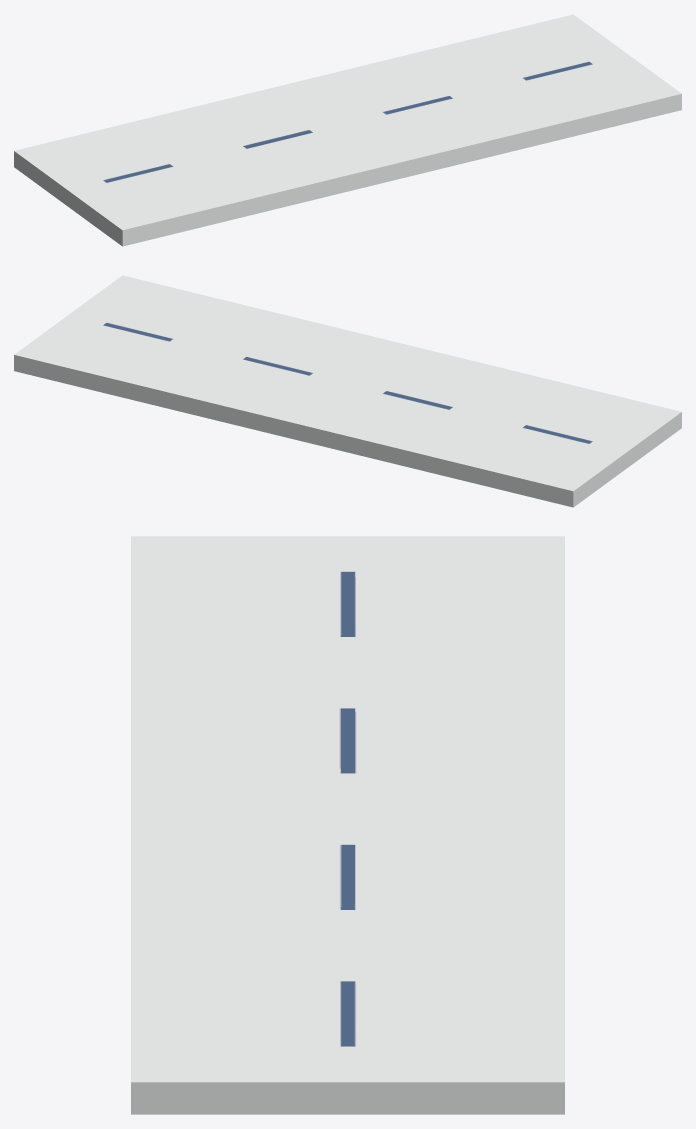
The model's file is road_white_model.fbx.
3 views of the same model, one above another, from view 1: azimuth 30°, elevation 25°; view 2: azimuth 150°, elevation 25°; view 3: azimuth 270°, elevation 25° (orthographic). The views are drawn at different scales.
Parts seen in each view (by area): view 1: road_white_model; view 2: road_white_model; view 3: road_white_model.
Boxes of the visible parts, x1,y1,x2,y2 form: road_white_model: [14, 14, 681, 246]; road_white_model: [14, 275, 681, 507]; road_white_model: [131, 536, 564, 1114].
Size of the model in its own units: 14.24 by 0.3967 by 4.79.
Materials: 1 (1 with a texture image).
